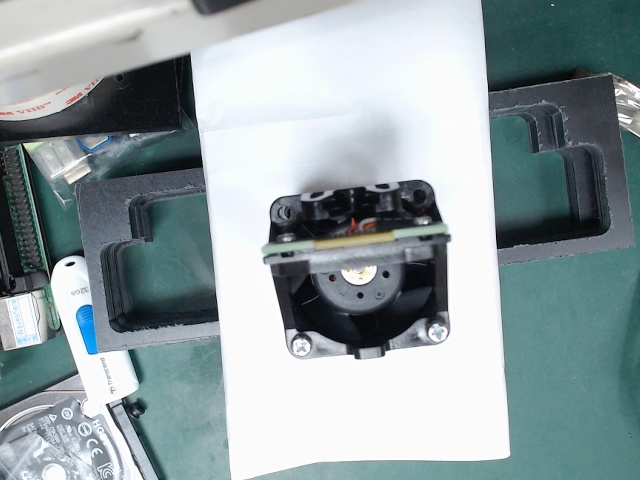Phase1_screw_loose: (414, 308, 469, 359)
Phase1_screw_missing: (242, 174, 313, 225)
